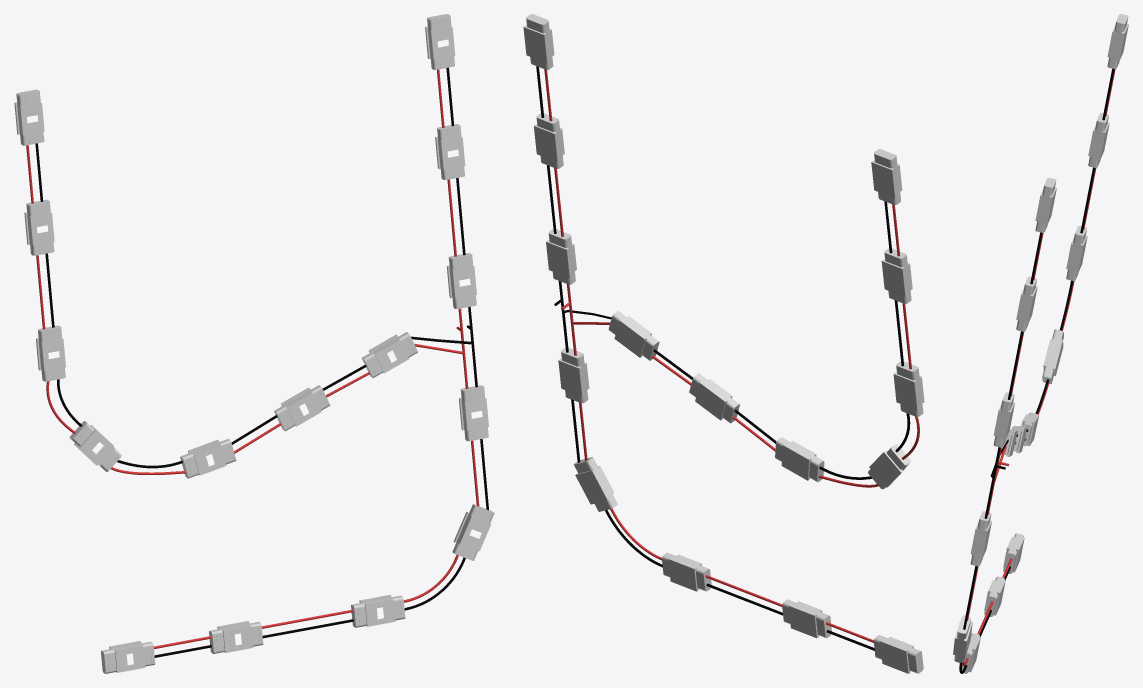
Rendered from FIXED-LED.glb.
3 renders of one model, left to right at view 1: azimuth 30°, elevation 25°; view 2: azimuth 150°, elevation 25°; view 3: azimuth 270°, elevation 25°, orthographic. The views are drawn at different scales.
Visible parts, largest first — view 1: FIXED-LED; view 2: FIXED-LED; view 3: FIXED-LED.
Boxes of the visible parts, x1,y1,x2,y2 form: FIXED-LED: (14, 14, 494, 673); FIXED-LED: (523, 14, 924, 673); FIXED-LED: (953, 14, 1128, 673).
Size of the model in its own units: 34.77 by 47.01 by 13.9.
